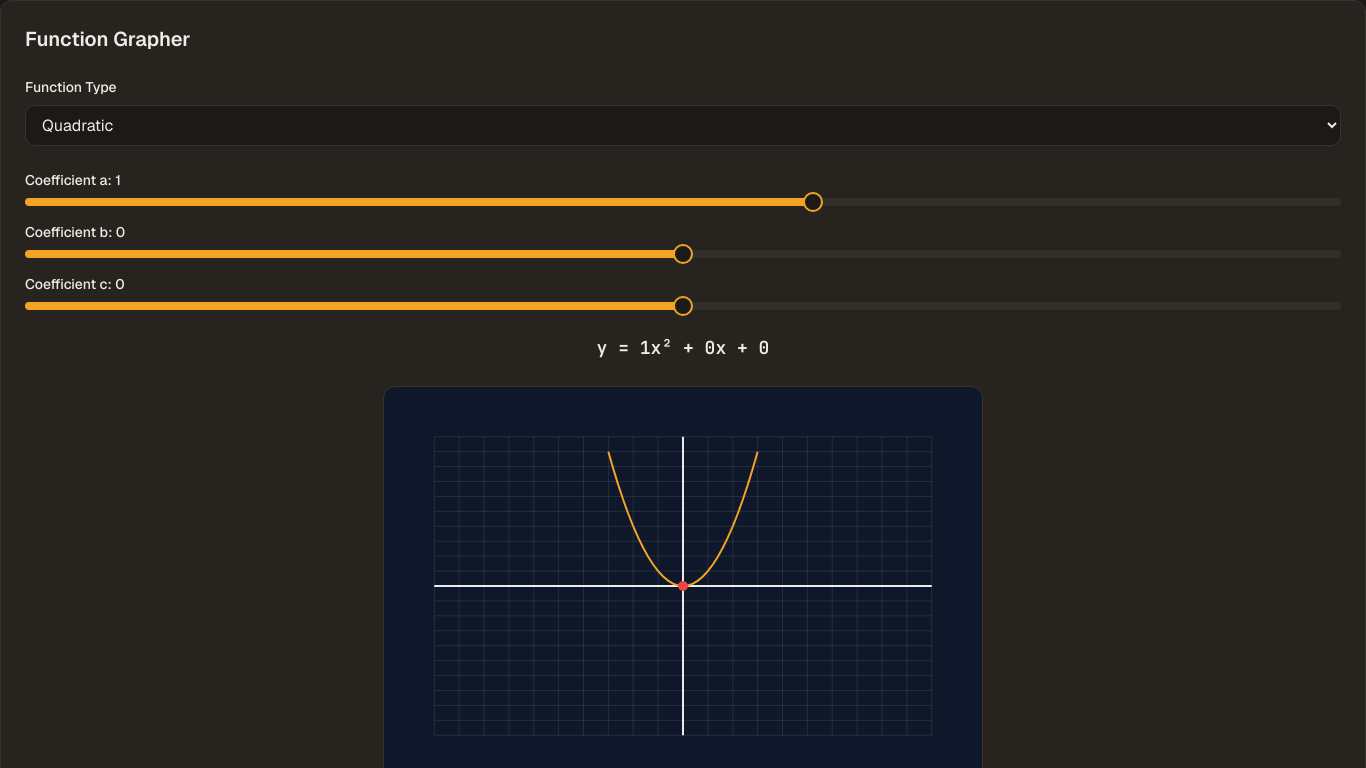
Scenario: FunctionGrapher › switches between quadratic and trigonometric functions
Step 1. Select "Trigonometric" in the dropdown labelled "Function Type" → coordinates (683, 126), box left=25, top=105, right=1341, bottom=146
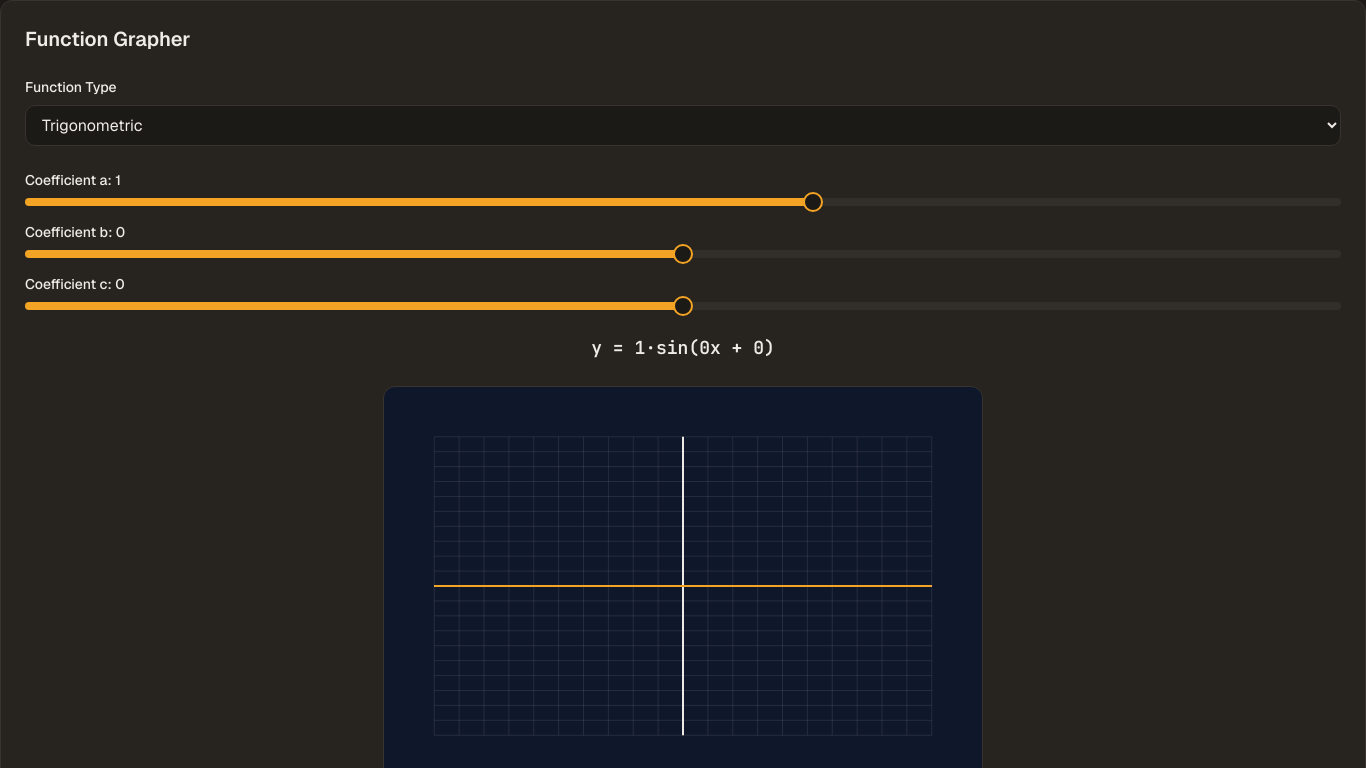
Now the text "y = 1·sin(0x + 0)" is shown, box left=591, top=336, right=775, bottom=359
